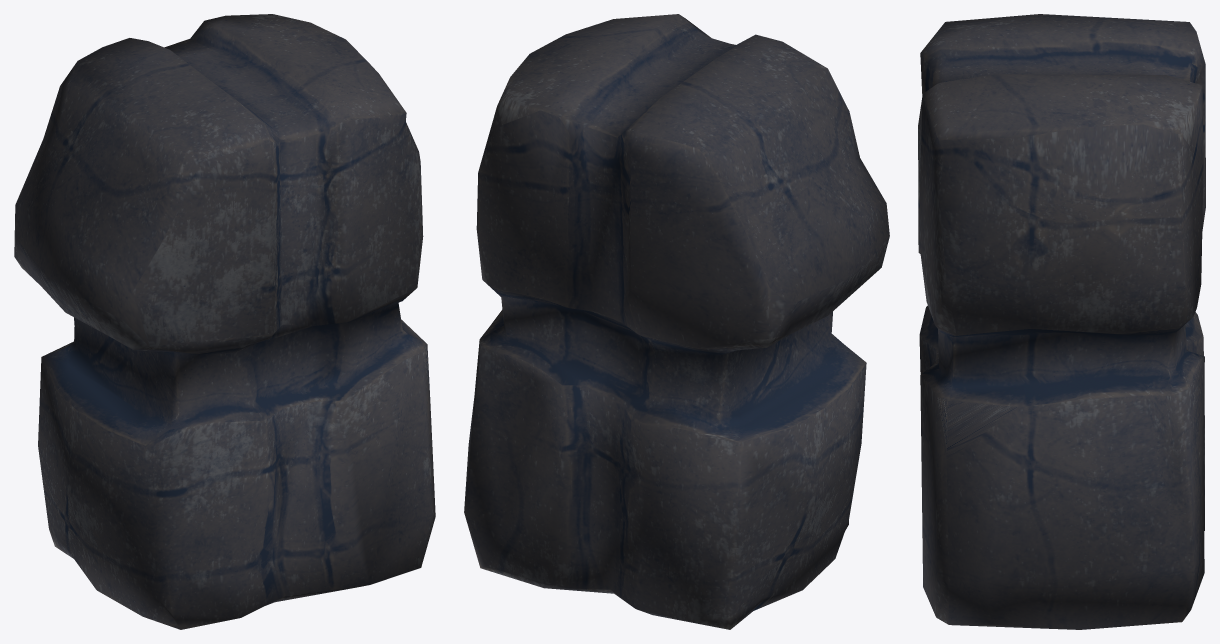
The model's file is obstacle_petit2.obj.
3 renders of one model, left to right at view 1: azimuth 30°, elevation 25°; view 2: azimuth 150°, elevation 25°; view 3: azimuth 270°, elevation 25°, orthographic. The views are drawn at different scales.
Visible parts, largest first — view 1: obstacle_petit2.001; view 2: obstacle_petit2.001; view 3: obstacle_petit2.001.
Part boxes in pixels (x1,y1,x2,y2): obstacle_petit2.001: (14,14,435,629); obstacle_petit2.001: (464,14,889,629); obstacle_petit2.001: (918,14,1205,629).
Size of the model in its own units: 1018 by 1402 by 721.
Materials: 1 (1 with a texture image).
